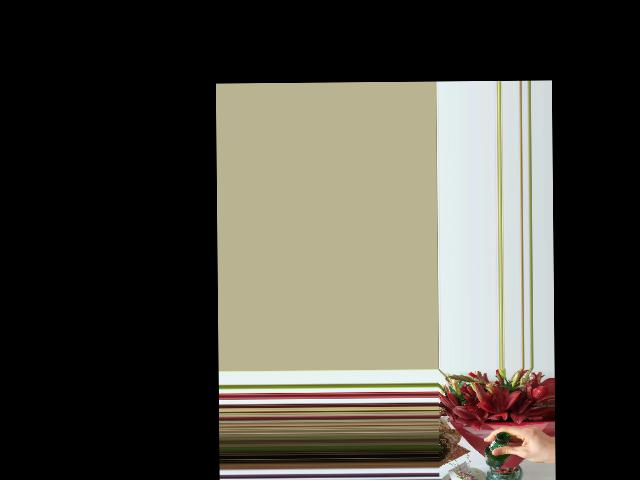beer: (485, 432, 511, 467)
